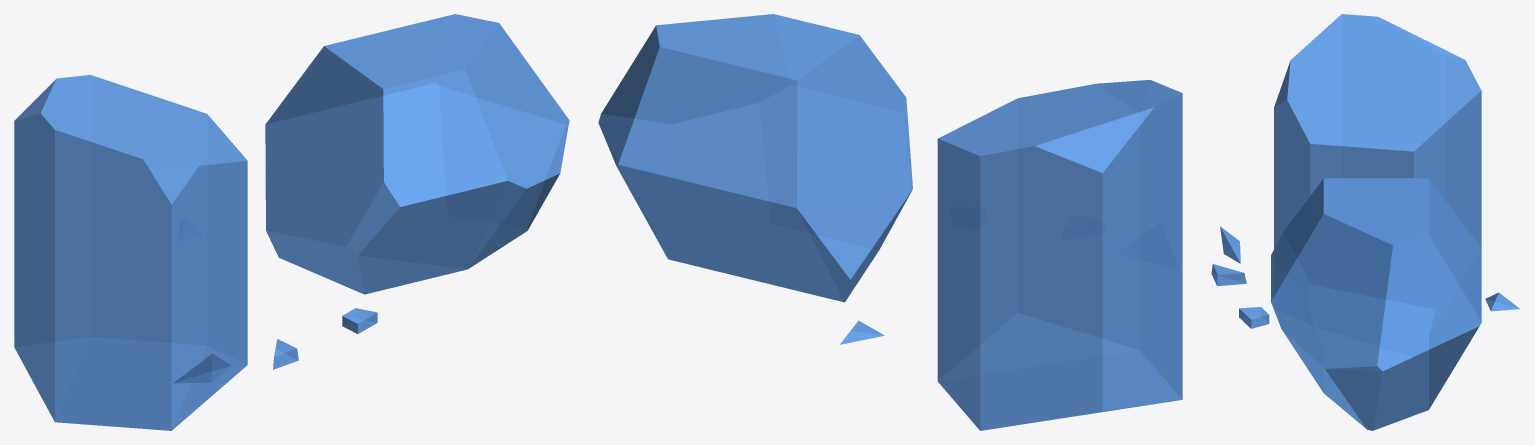
File: Crystal_crk_m_01.fbx
3 renders of one model, left to right at view 1: azimuth 30°, elevation 25°; view 2: azimuth 150°, elevation 25°; view 3: azimuth 270°, elevation 25°, orthographic. The views are drawn at different scales.
Visible parts, largest first — view 1: Crystal_crk_m_01; view 2: Crystal_crk_m_01; view 3: Crystal_crk_m_01.
Boxes of the visible parts, box(x1,y1,x2,y2) form: Crystal_crk_m_01: box(14, 14, 569, 430); Crystal_crk_m_01: box(598, 14, 1182, 430); Crystal_crk_m_01: box(1211, 14, 1519, 430).
Size of the model in its own units: 2.19 by 1.14 by 1.23.
